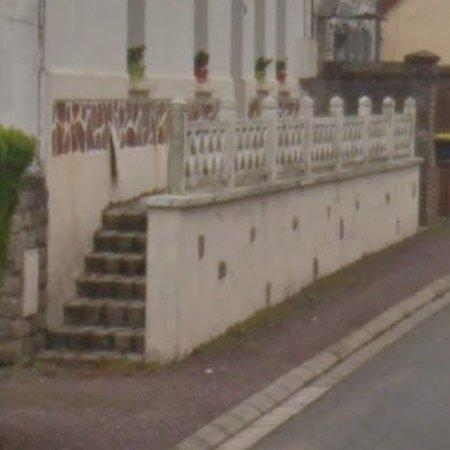stairs: (38, 198, 147, 361)
